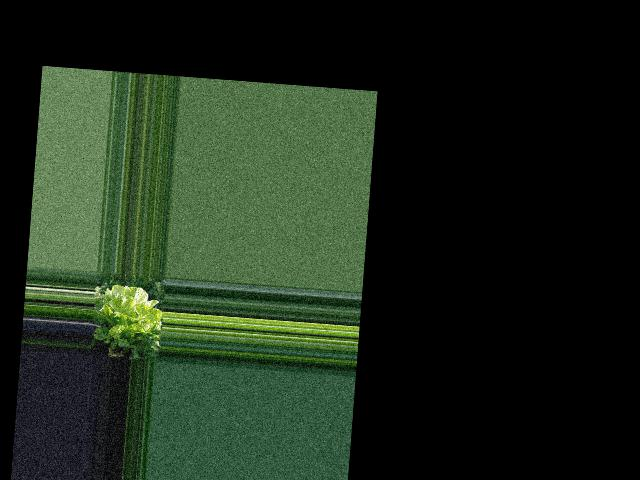lettuce: (93, 284, 157, 347)
